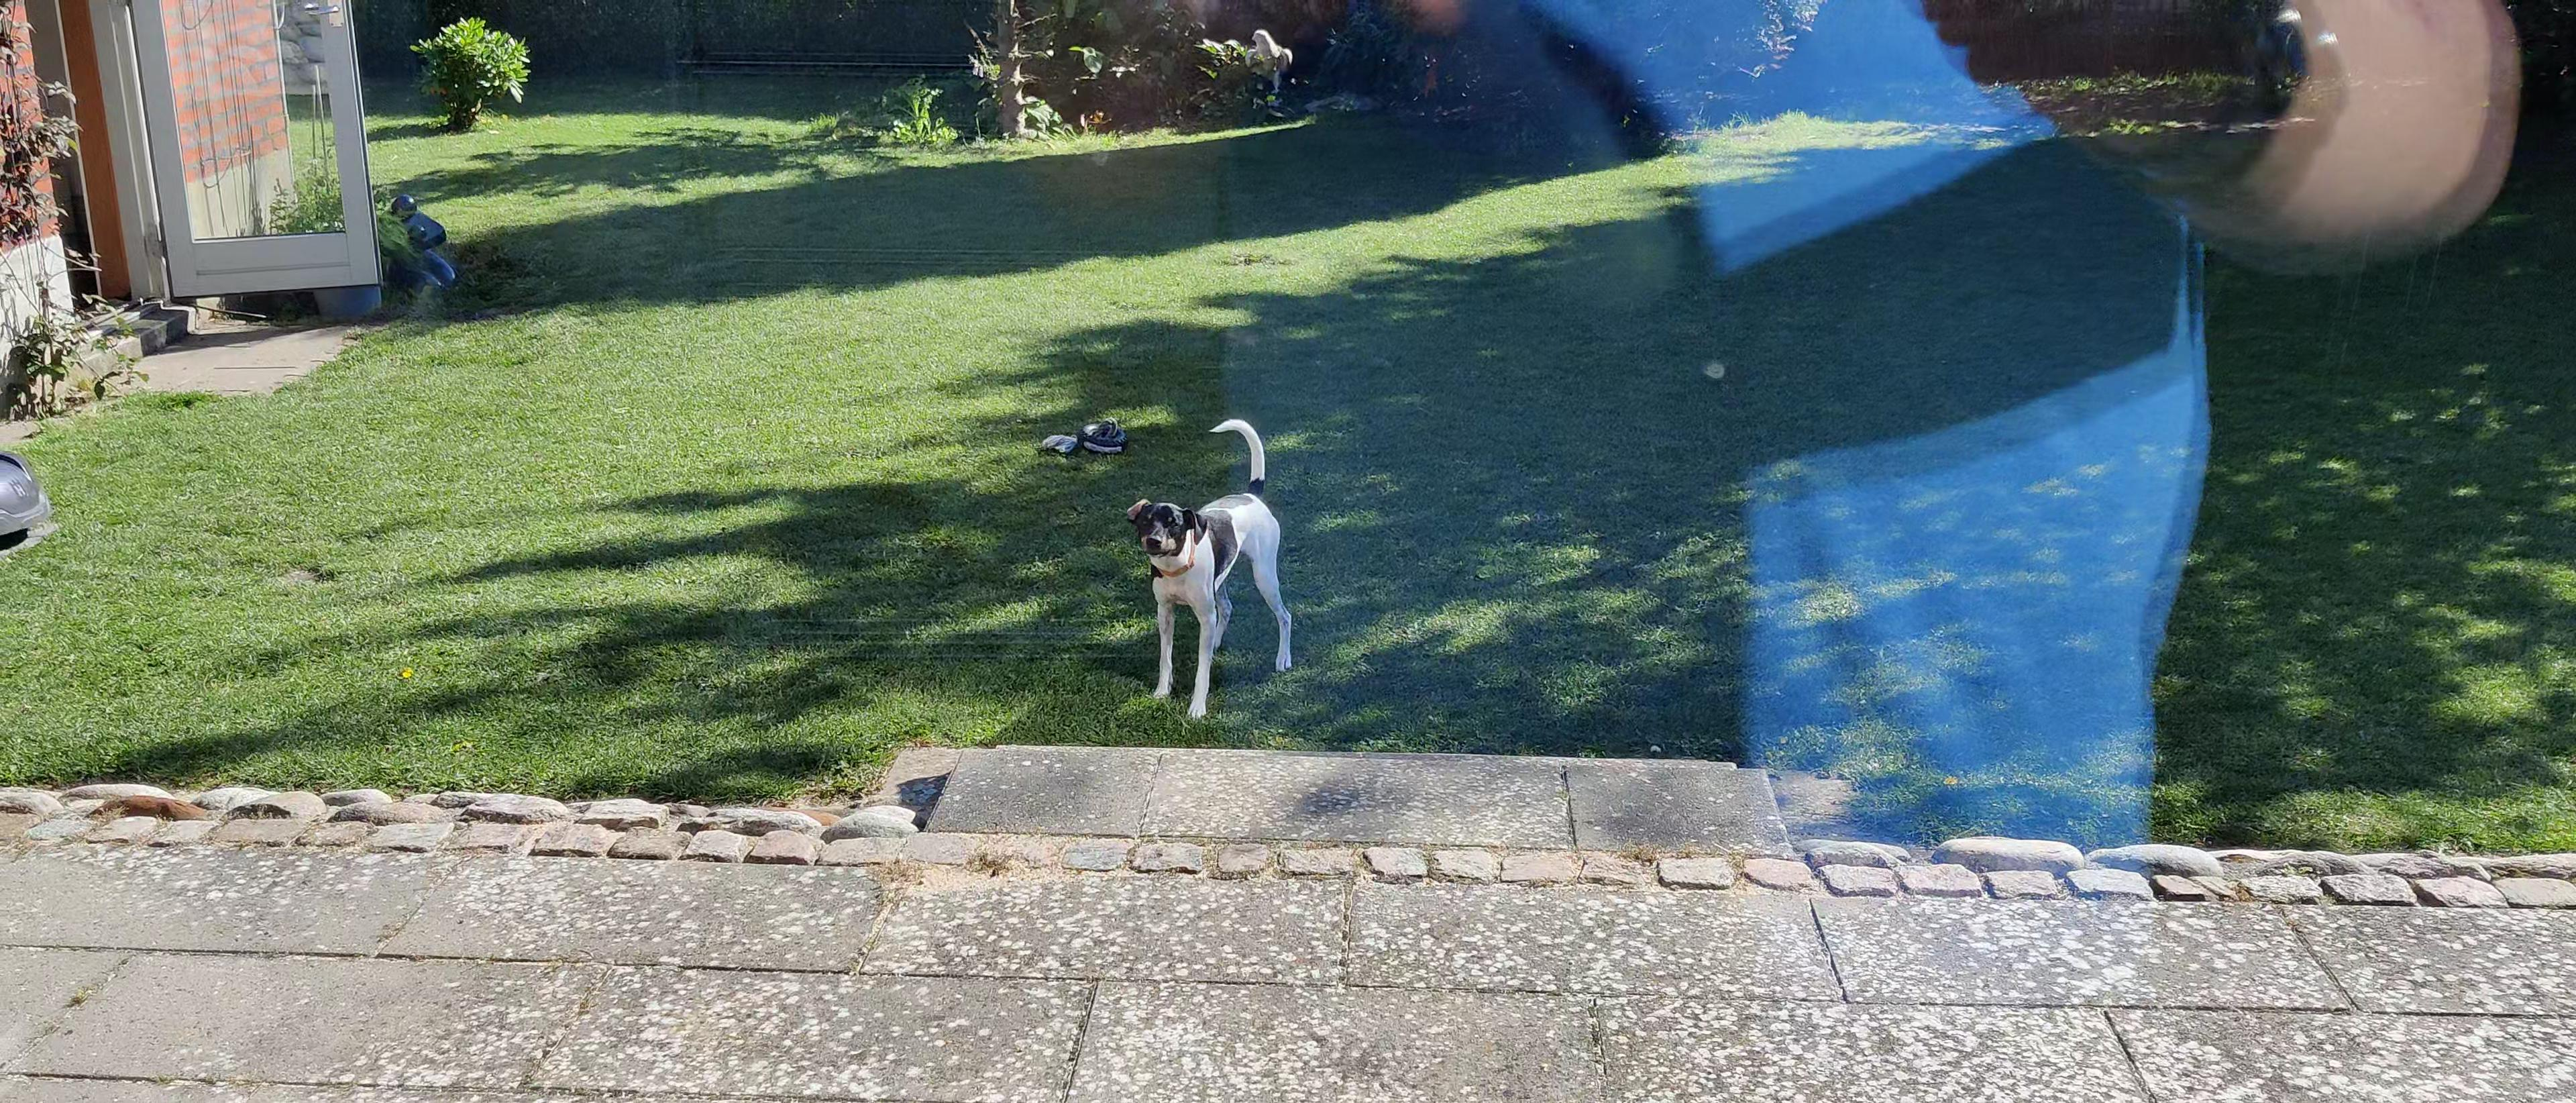Dog: (1125, 406, 1298, 725)
